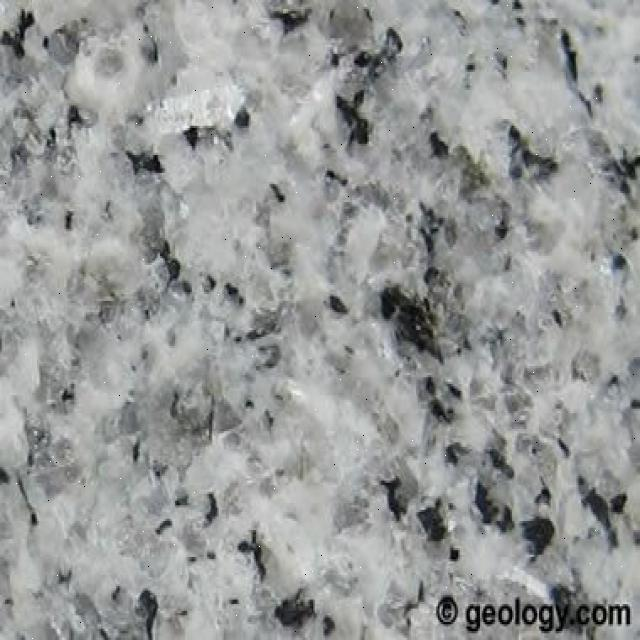Igneous: (1, 2, 640, 590)
